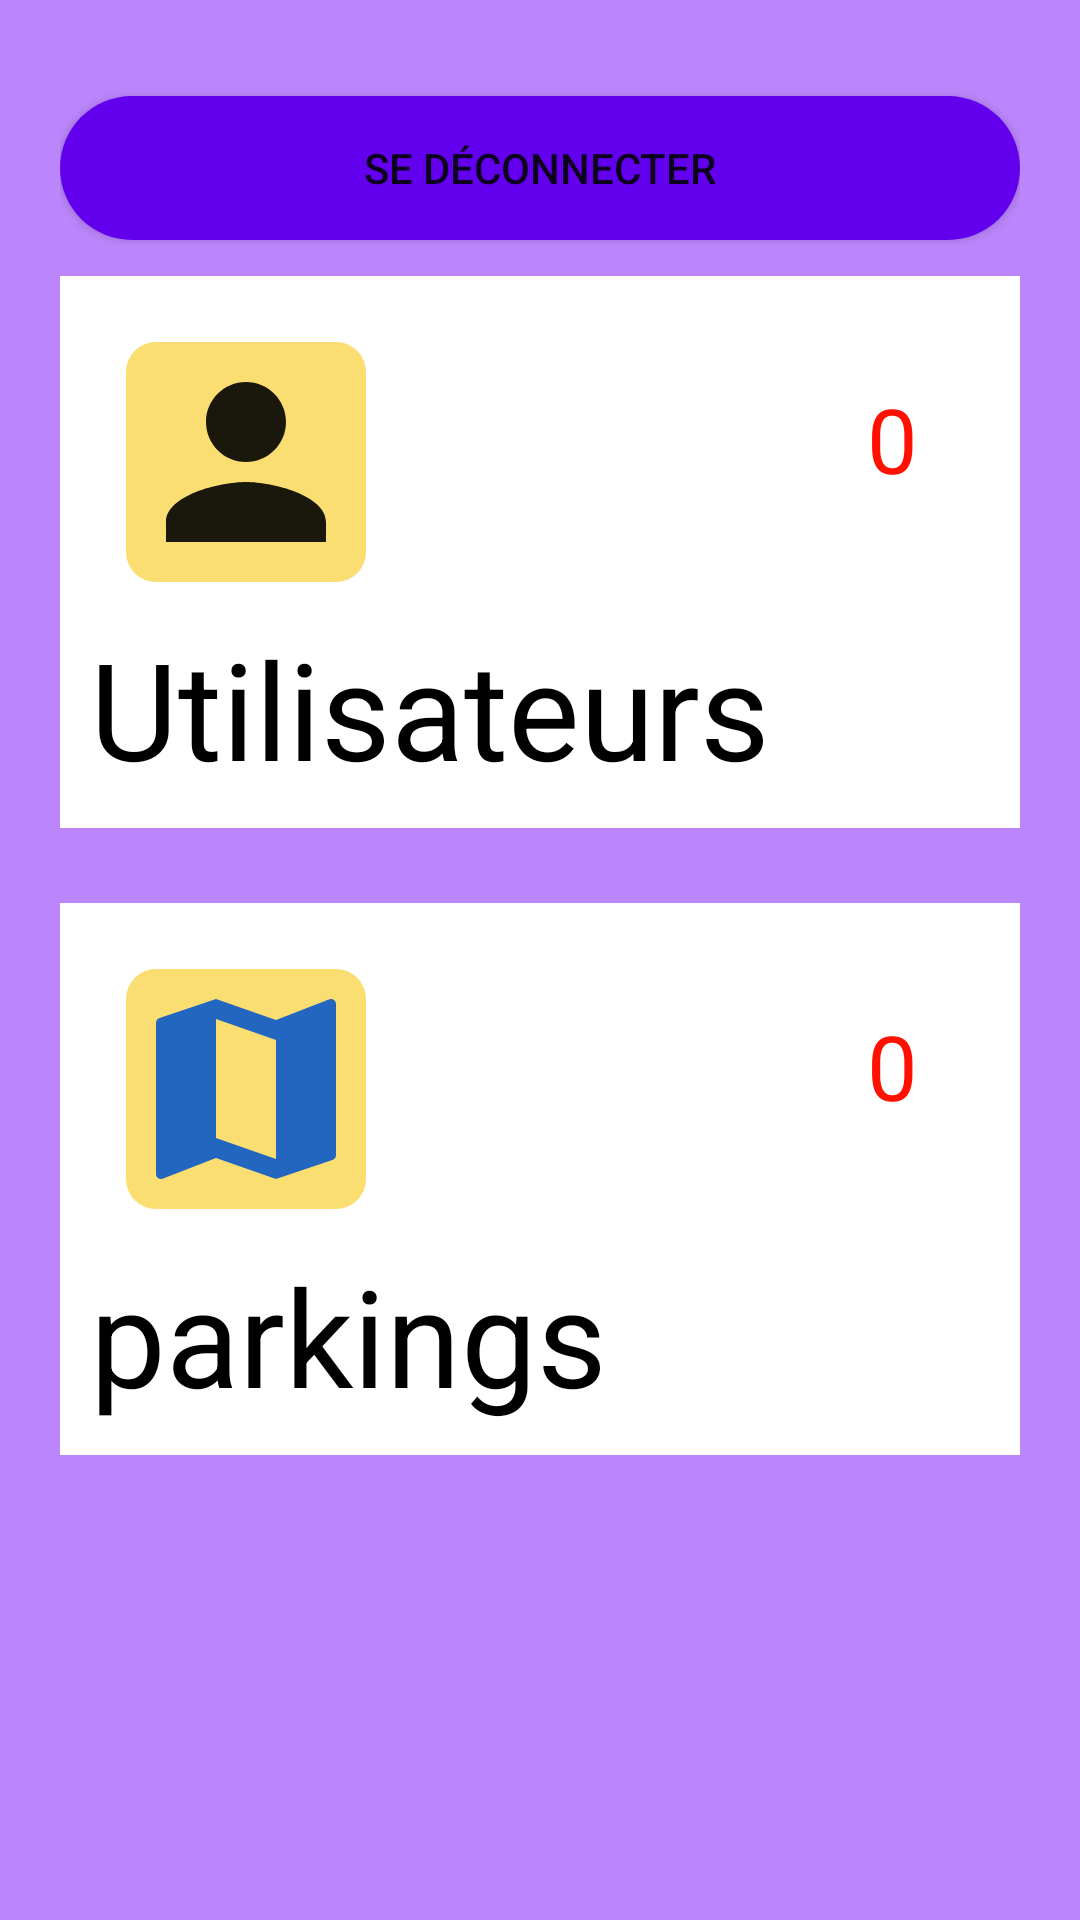

Where to tap for icons on this 1080 × 1920 app screen, as (x=x, y=y):
map: (x=246, y=1089)
user: (x=246, y=462)
